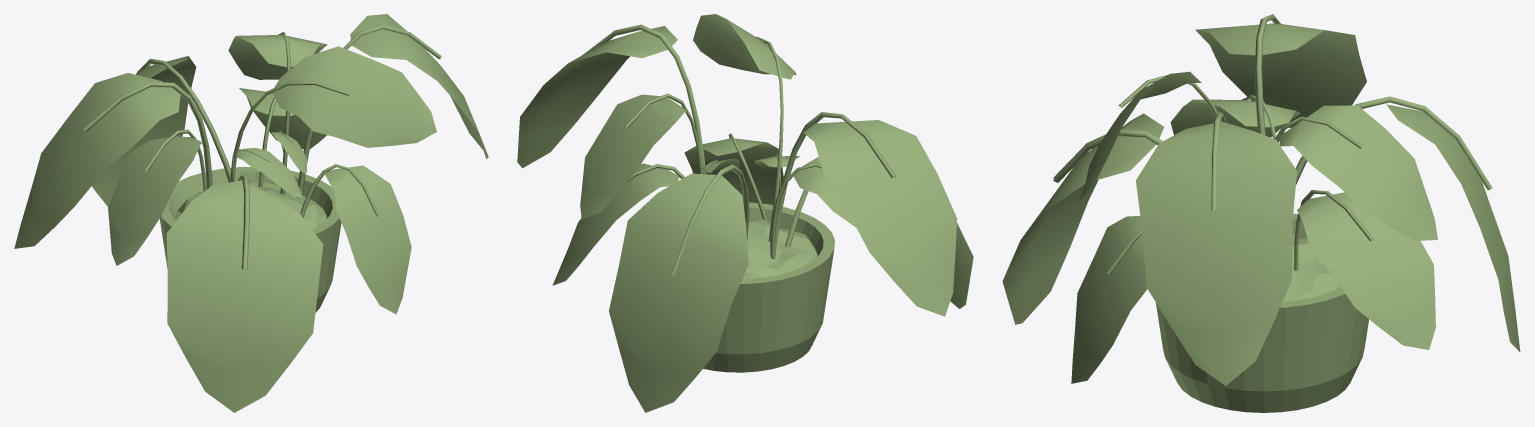
The model's file is Plant01.fbx.
3 views of the same model, side by side, from view 1: azimuth 30°, elevation 25°; view 2: azimuth 150°, elevation 25°; view 3: azimuth 270°, elevation 25° (orthographic). The views are drawn at different scales.
Visible parts, largest first — view 1: Plant01; view 2: Plant01; view 3: Plant01.
Part boxes in pixels (x1,y1,x2,y2): Plant01: (14,14,488,412); Plant01: (517,14,973,412); Plant01: (1002,14,1520,412).
Size of the model in its own units: 89.78 by 55.13 by 74.35.
